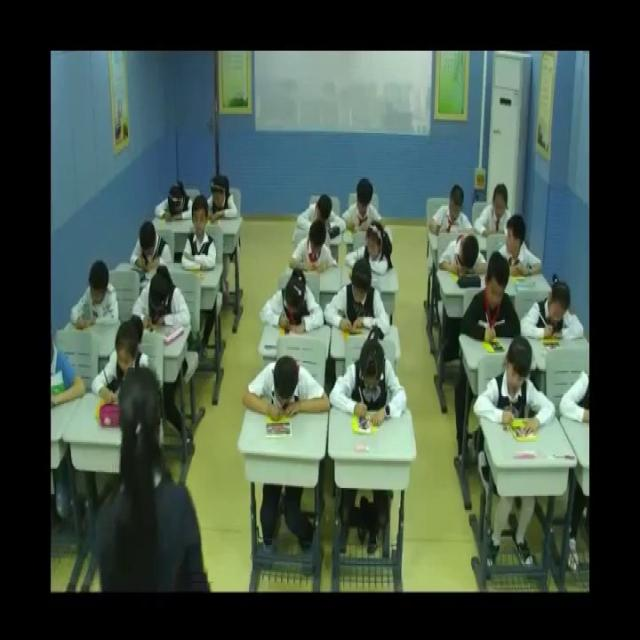distracted: (500, 214, 543, 280)
focused: (328, 330, 408, 427), (476, 345, 556, 438), (461, 249, 524, 344), (242, 355, 330, 420), (93, 319, 155, 407), (518, 268, 586, 347), (324, 254, 390, 331), (260, 268, 326, 340), (132, 266, 191, 336), (66, 261, 123, 332), (180, 194, 217, 274), (289, 218, 338, 278), (438, 228, 489, 284), (346, 222, 393, 280), (429, 186, 475, 244), (474, 184, 518, 238), (134, 222, 178, 275), (298, 195, 346, 239), (155, 178, 196, 225), (346, 182, 384, 232), (203, 173, 238, 223)
